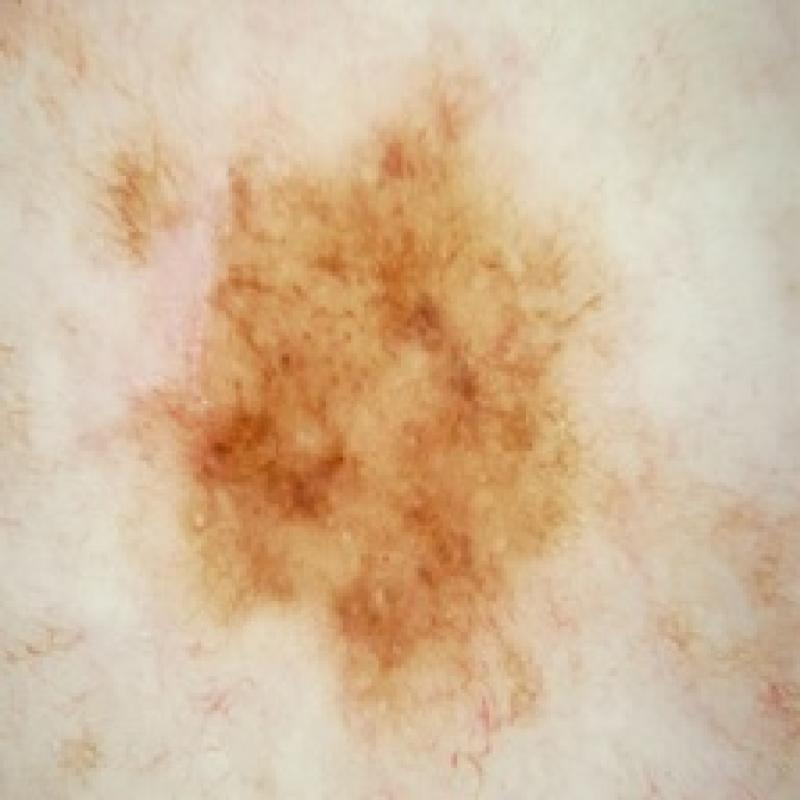malignant: (94, 86, 672, 767)
